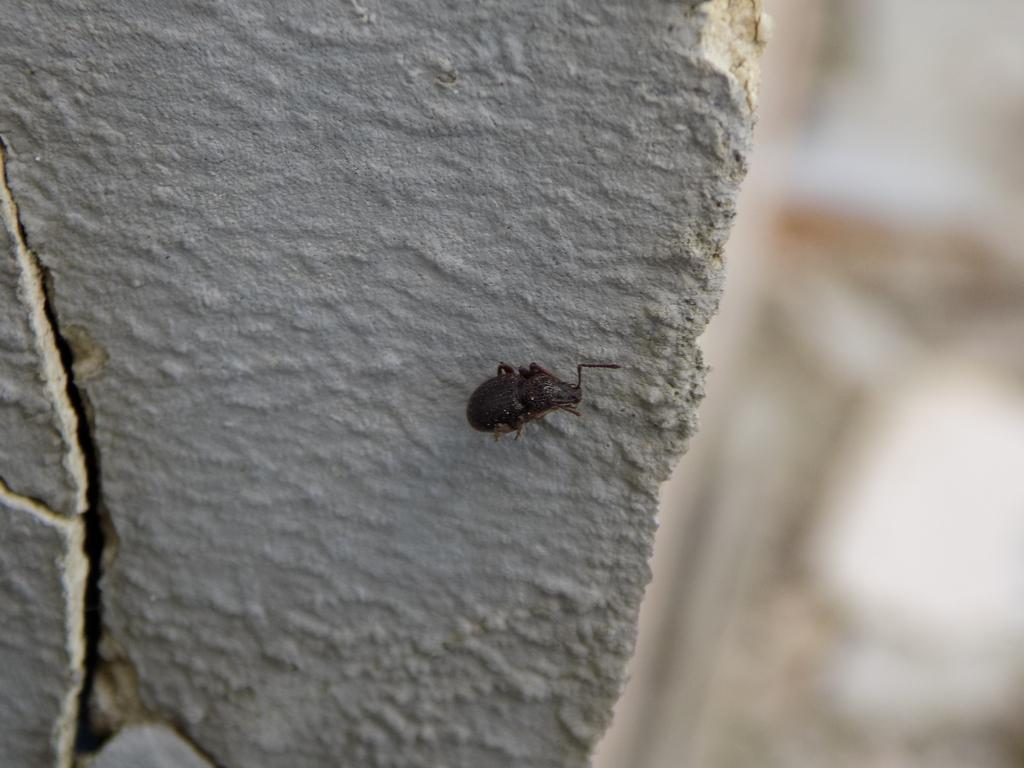weevils: (438, 332, 636, 483)
